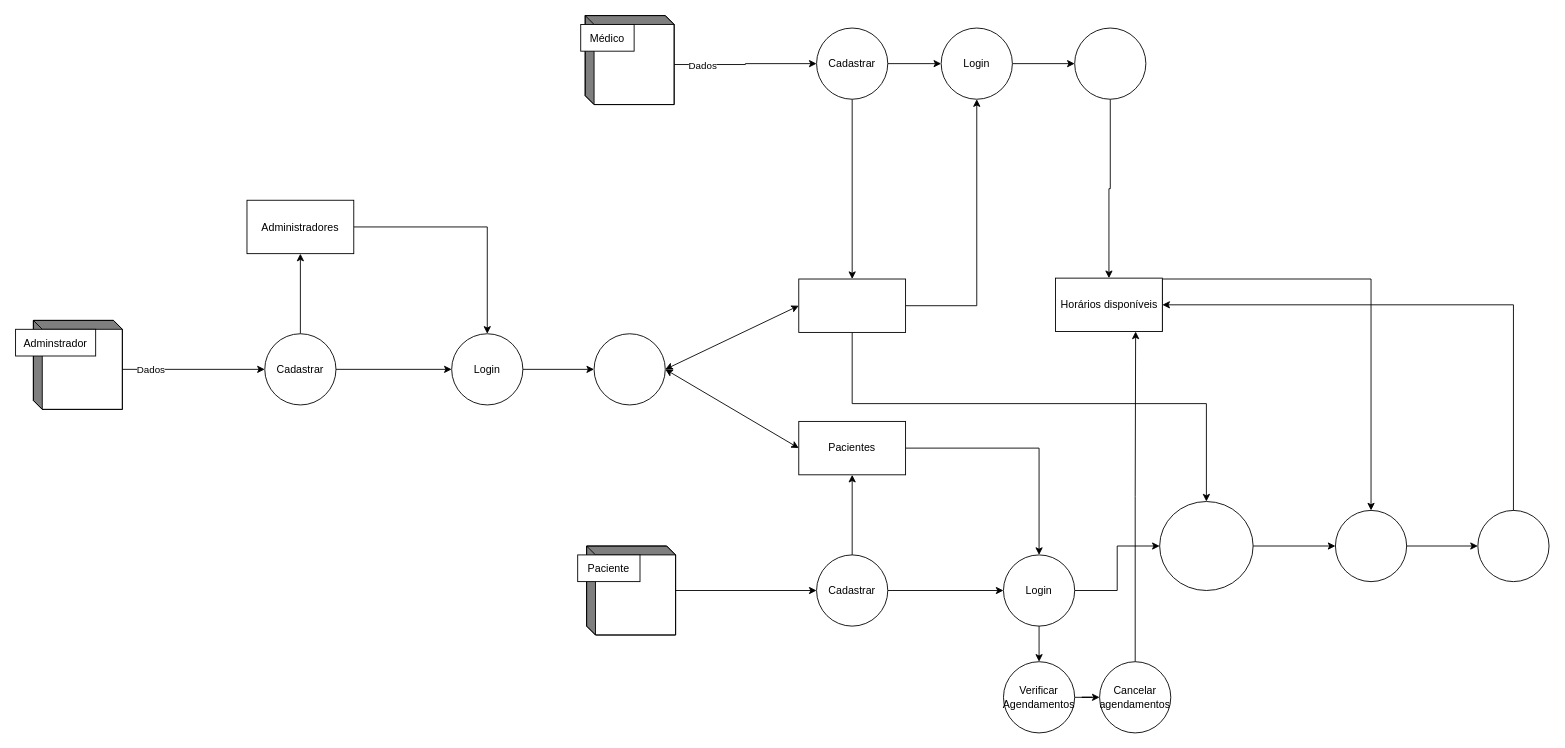
This 1565x748 diagram has some shape labels left out. Each missing label, with the centre of its shape:
Agendar horario: the point at 1513,546
Gerenciar agenda de atendimentos: the point at 1110,63
Gerenciar usuários: the point at 629,369
Médicos: the point at 852,305
Pesquisar MÉDICO (Nome, especialidade, localização): the point at 1206,546
Verificar horários: the point at 1371,546
